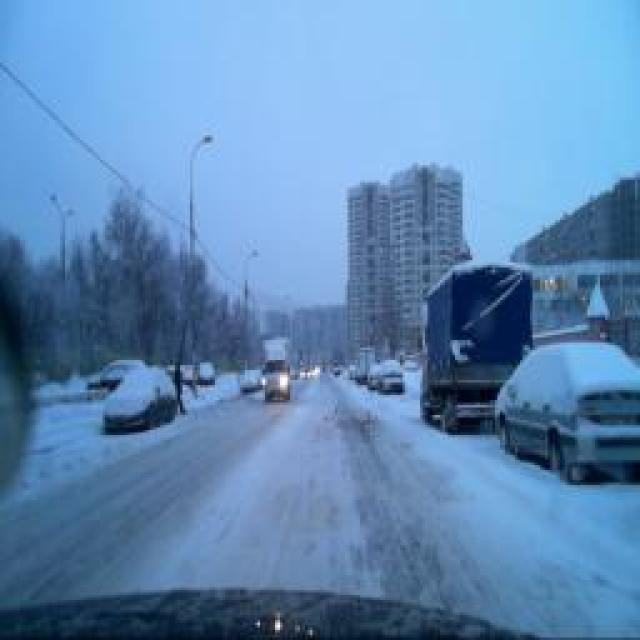sign: (453, 230, 475, 262)
